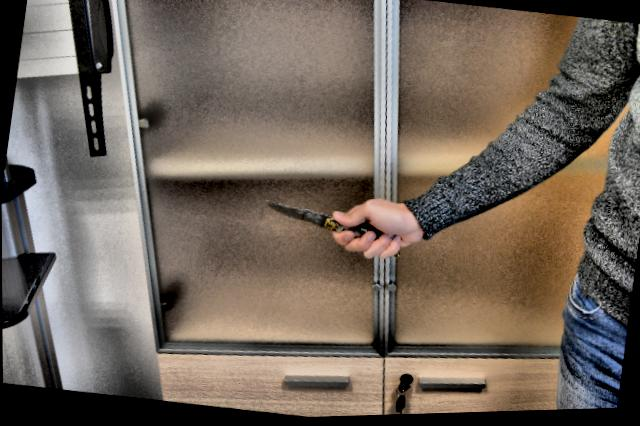knife: (253, 193, 411, 270)
